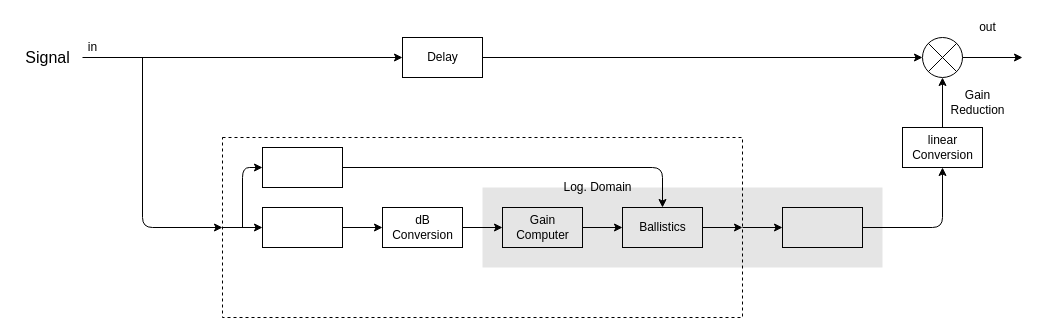
This 1048x335 diagram has some shape labels left out. The shapes that lost their labels are listed below. From the top down, each one's box as (x1, y1, x2, y2) in pixels, then its label:
(262, 146, 342, 188): Crest-Factor Calculation
(262, 206, 342, 248): Level Detection
(782, 206, 862, 248): LookAhead Processor
